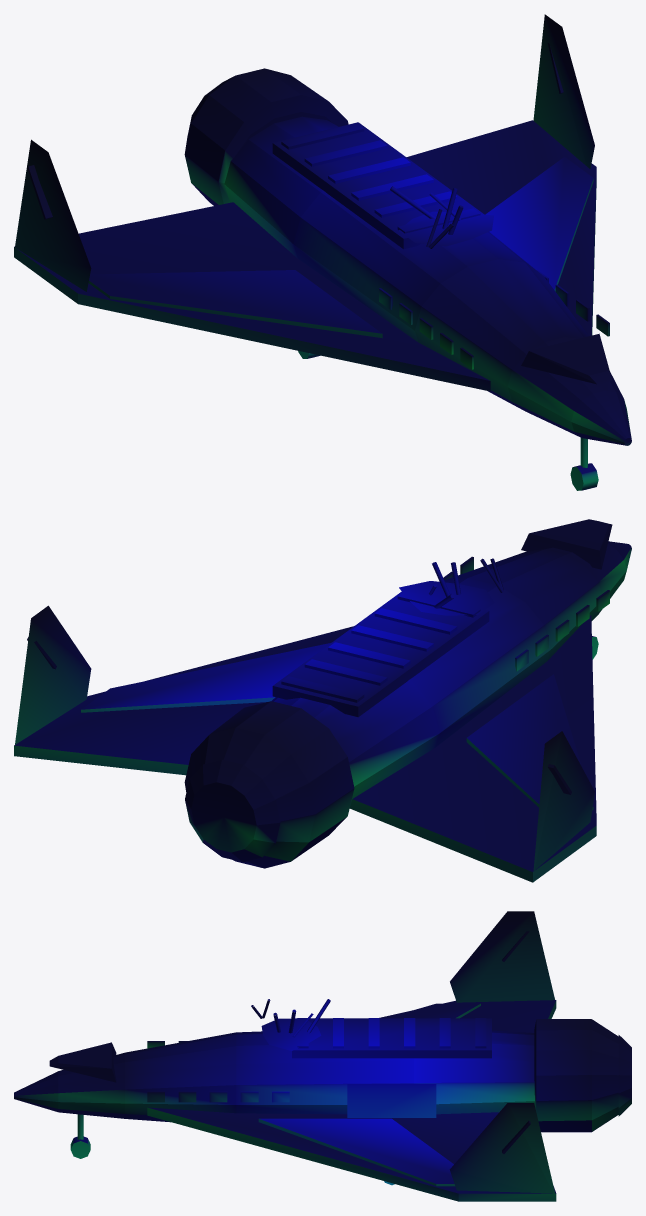
The model's file is shuttle_damaged.glb.
The picture shows the model from 3 angles, top to bottom: view 1: azimuth 30°, elevation 25°; view 2: azimuth 150°, elevation 25°; view 3: azimuth 270°, elevation 25°; orthographic projection. The views are drawn at different scales.
Visible parts, largest first — view 1: lod0; view 2: lod0; view 3: lod0.
Boxes of the visible parts, x1,y1,x2,y2 form: lod0: [14, 14, 631, 490]; lod0: [14, 519, 631, 882]; lod0: [14, 911, 631, 1201].
Size of what is drawn, in the model's own units: 20.9 by 7.45 by 27.8.
